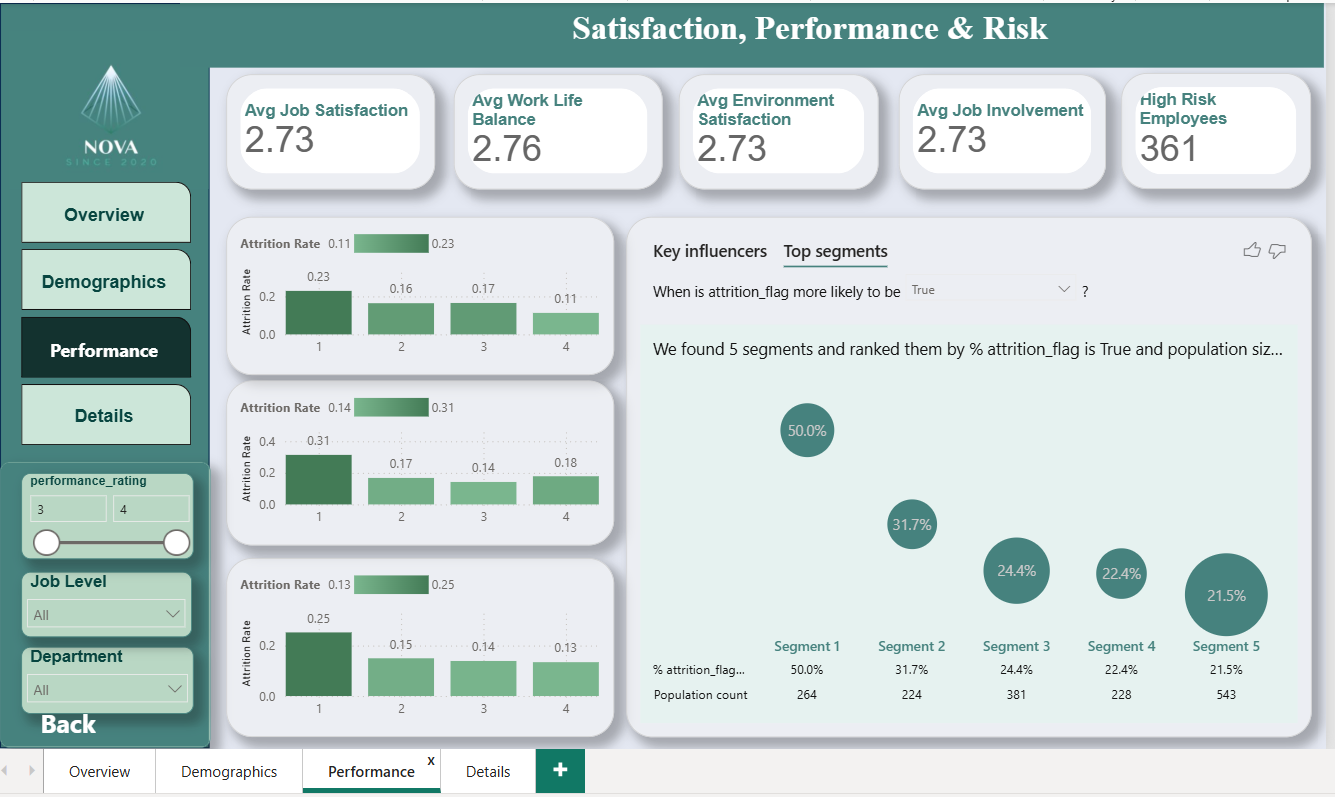

What the dashboard file says about the page in this screenshot:
{"tool":"powerbi","page":{"name":"Performance","canvas":[1280,720],"ordinal":2},"visuals":[{"type":"shape","box":[0,0,202.2,719.3],"z":0},{"type":"image","box":[3.9,0,202.2,206.1],"z":1000},{"type":"cardVisual","fields":{"Data":["hr_ibm_attrition dim_employee.Avg Job Satisfaction"]},"box":[218.4,68.8,201.5,111],"z":2000},{"type":"textbox","box":[174.1,0,1103.9,62.1],"z":3000},{"type":"cardVisual","fields":{"Data":["hr_ibm_attrition dim_employee.Avg Work Life Balance"]},"box":[437.9,68.8,201.5,111],"z":4000},{"type":"pageNavigator","box":[20,172,164,254],"z":5000},{"type":"cardVisual","fields":{"Data":["hr_ibm_attrition dim_employee.Avg Environment Satisfaction"]},"box":[655.1,68.8,193,111],"z":6000},{"type":"cardVisual","fields":{"Data":["hr_ibm_attrition dim_employee.Avg Job Involvement"]},"box":[867.4,68.8,200.3,111],"z":7000},{"type":"cardVisual","fields":{"Data":["hr_ibm_attrition dim_employee.High Risk Employees"]},"box":[1082.7,68.1,183.2,112.1],"z":8000},{"type":"clusteredColumnChart","title":"Job Satisfaction vs Attrition Rate","fields":{"Category":["hr_ibm_attrition fact_attrition.job_satisfaction"],"Y":["hr_ibm_attrition dim_employee.Attrition Rate"]},"box":[218,205.9,374,152.9],"z":9000},{"type":"clusteredColumnChart","title":"Work-Life Balance vs Attrition Rate","fields":{"Category":["hr_ibm_attrition fact_attrition.work_life_balance"],"Y":["hr_ibm_attrition dim_employee.Attrition Rate"]},"box":[218,364.9,374,159],"z":10000},{"type":"shape","box":[0,442.9,203.2,276.3],"z":11000},{"type":"clusteredColumnChart","title":"Environment Satisfaction vs Attrition Rate","fields":{"Category":["hr_ibm_attrition fact_attrition.environment_satisfaction"],"Y":["hr_ibm_attrition dim_employee.Attrition Rate"]},"box":[218,536,374,172.6],"z":12000},{"type":"slicer","fields":{"Values":["hr_ibm_attrition dim_department.dept_name"]},"box":[20.3,621.7,166.6,65],"z":13000},{"type":"slicer","fields":{"Values":["hr_ibm_attrition dim_employee.job_level_label"]},"box":[20.3,548.6,164.6,63],"z":14000},{"type":"slicer","fields":{"Values":["hr_ibm_attrition fact_attrition.performance_rating"]},"box":[20.3,453.1,166.6,83.3],"z":15000},{"type":"keyDriversVisual","fields":{"Target":["hr_ibm_attrition fact_attrition.attrition_flag"],"ExplainBy":["hr_ibm_attrition fact_attrition.job_satisfaction","hr_ibm_attrition fact_attrition.work_life_balance","hr_ibm_attrition fact_attrition.stock_option_level","hr_ibm_attrition fact_attrition.distance_from_home","hr_ibm_attrition fact_attrition.monthly_income","hr_ibm_attrition fact_attrition.years_at_company","hr_ibm_attrition fact_attrition.environment_satisfaction","hr_ibm_attrition fact_attrition.job_involvement","hr_ibm_attrition dim_department.dept_name","hr_ibm_attrition dim_employee.business_travel","hr_ibm_attrition dim_job_role.role_title","hr_ibm_attrition dim_employee.marital_status"]},"box":[604.2,205.9,661.7,502.7],"z":16000},{"type":"actionButton","title":"Button back","box":[30.5,670.5,71.1,48.8],"z":16001}]}

Visuals, with their boxes on the page's 1280x720 design canvas (x1, y1, x2, y2). These are canvas units, not pixel positions in the 1335x797 screenshot, which may show the page scaled, cropped or inside an application window:
shape: bbox(0, 0, 202, 719)
image: bbox(4, 0, 206, 206)
cardVisual - hr_ibm_attrition dim_employee.Avg Job Satisfaction: bbox(218, 69, 420, 180)
textbox: bbox(174, 0, 1278, 62)
cardVisual - hr_ibm_attrition dim_employee.Avg Work Life Balance: bbox(438, 69, 639, 180)
pageNavigator: bbox(20, 172, 184, 426)
cardVisual - hr_ibm_attrition dim_employee.Avg Environment Satisfaction: bbox(655, 69, 848, 180)
cardVisual - hr_ibm_attrition dim_employee.Avg Job Involvement: bbox(867, 69, 1068, 180)
cardVisual - hr_ibm_attrition dim_employee.High Risk Employees: bbox(1083, 68, 1266, 180)
"Job Satisfaction vs Attrition Rate" clusteredColumnChart: bbox(218, 206, 592, 359)
"Work-Life Balance vs Attrition Rate" clusteredColumnChart: bbox(218, 365, 592, 524)
shape: bbox(0, 443, 203, 719)
"Environment Satisfaction vs Attrition Rate" clusteredColumnChart: bbox(218, 536, 592, 709)
slicer - hr_ibm_attrition dim_department.dept_name: bbox(20, 622, 187, 687)
slicer - hr_ibm_attrition dim_employee.job_level_label: bbox(20, 549, 185, 612)
slicer - hr_ibm_attrition fact_attrition.performance_rating: bbox(20, 453, 187, 536)
keyDriversVisual - hr_ibm_attrition fact_attrition.attrition_flag x hr_ibm_attrition fact_attrition.job_satisfaction: bbox(604, 206, 1266, 709)
"Button back" actionButton: bbox(30, 670, 102, 719)
